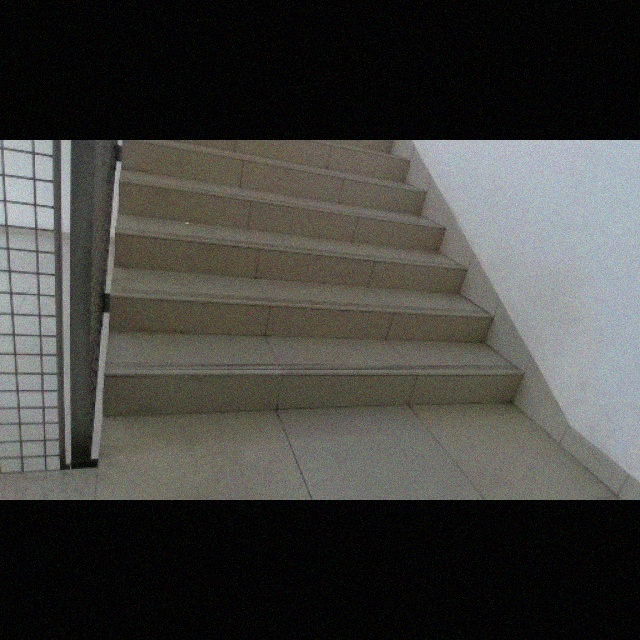stair: (108, 145, 519, 430)
